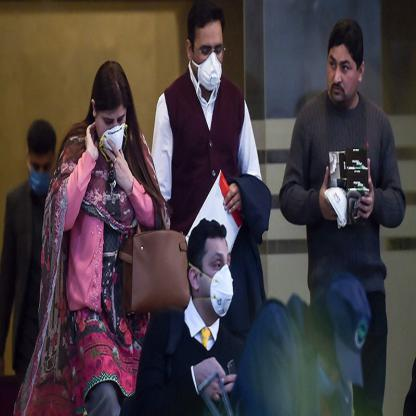Not_Wearing_Mask: (326, 50, 358, 104)
Wearing_Mask: (198, 246, 233, 314), (190, 36, 223, 88), (95, 110, 127, 154), (28, 156, 53, 194)
